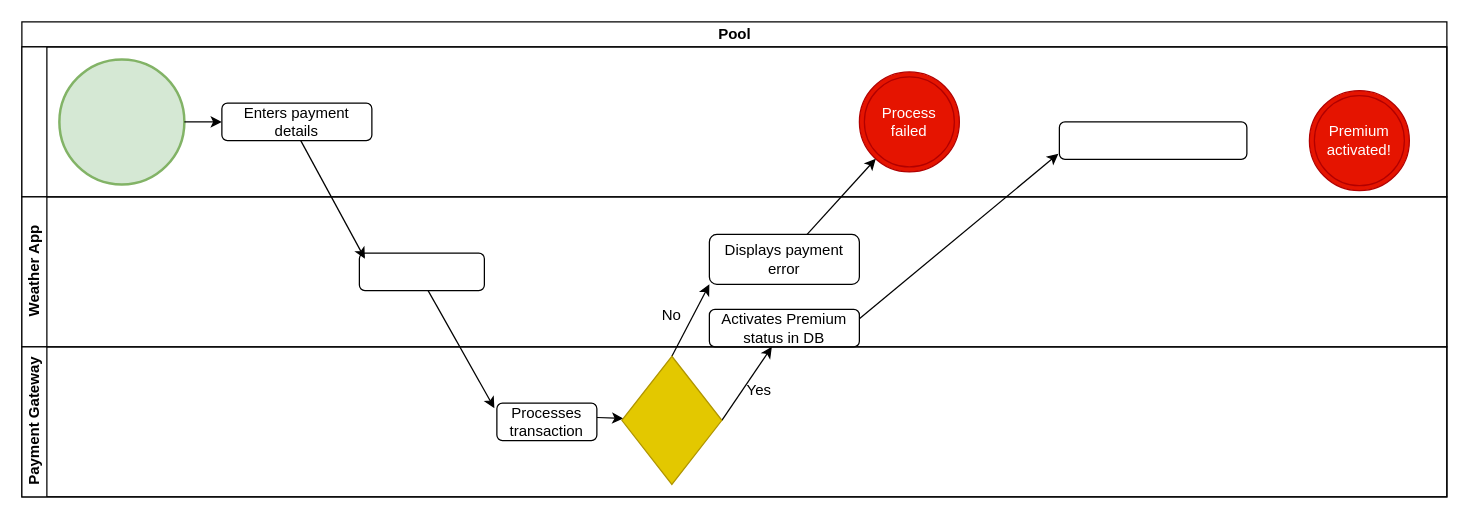
Image size: 1469x519. Some labels were removed from this diagram. Here are the shapes that lost their labels. From the top down, the box of each, then its label:
(58, 58, 185, 185): Clicks "Go Premium"
(21, 46, 1447, 197): User
(1058, 121, 1247, 159): Receives confirmation & premium features
(358, 252, 484, 291): Validates form & creates invoice
(621, 355, 722, 484): Payment successful?
